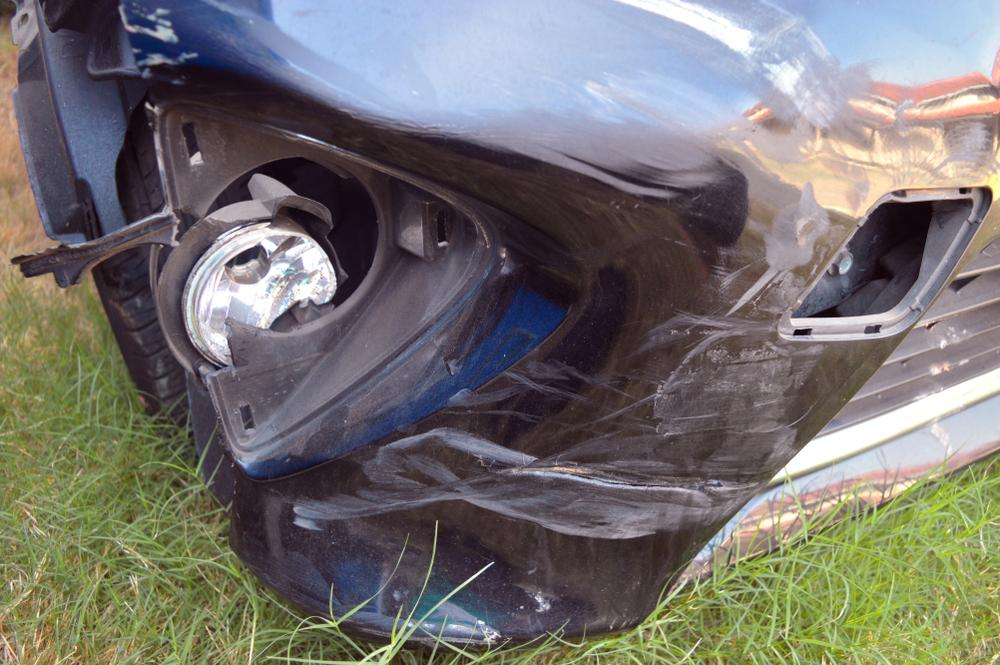dent: (285, 498, 714, 632)
scratch: (366, 0, 1000, 538)
